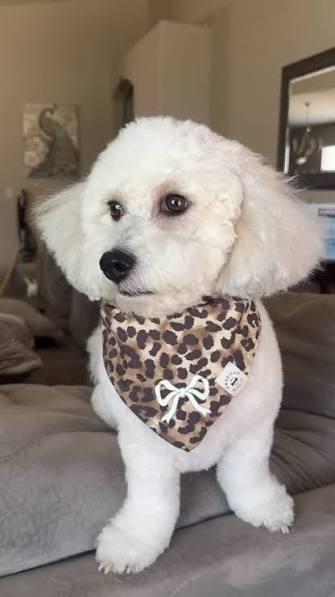adult_dog: (30, 113, 327, 577)
